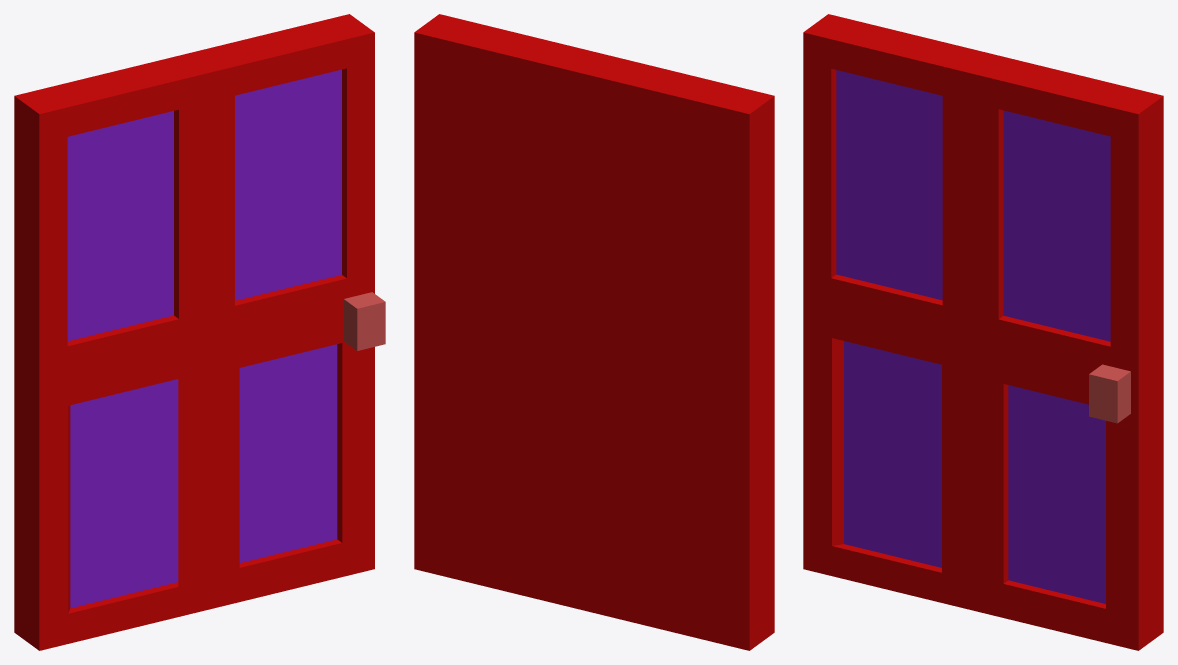
File: door.fbx
3 views of the same model, side by side, from view 1: azimuth 30°, elevation 25°; view 2: azimuth 150°, elevation 25°; view 3: azimuth 330°, elevation 25° (orthographic).
Parts seen in each view (by area): view 1: Cube, Cube.001; view 2: Cube; view 3: Cube, Cube.001.
Boxes of the visible parts, <box> form: Cube: <box>14,14,374,650</box>; Cube.001: <box>343,292,385,350</box>; Cube: <box>414,14,774,650</box>; Cube: <box>803,14,1163,650</box>; Cube.001: <box>1089,364,1130,423</box>.
Size of the model in its own units: 200 by 306 by 42.5.
